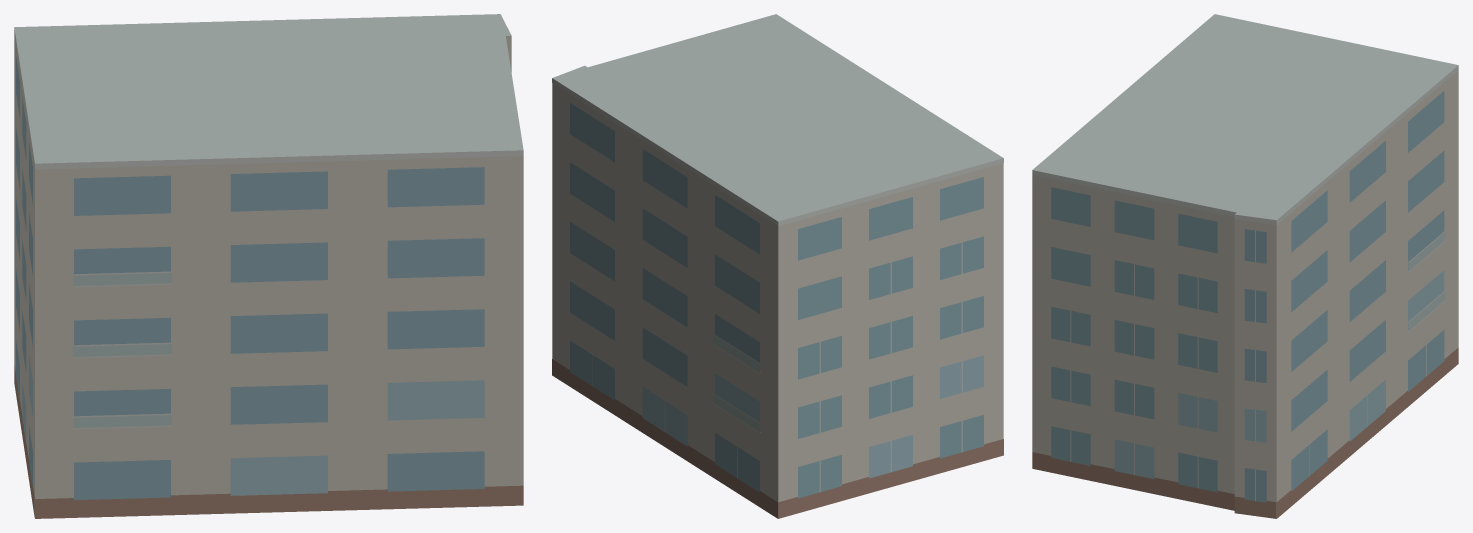
The model's file is survey-upis-32954496.glb.
The picture shows the model from 3 angles, left to right: view 1: azimuth 30°, elevation 25°; view 2: azimuth 150°, elevation 25°; view 3: azimuth 270°, elevation 25°; orthographic projection. The views are drawn at different scales.
Visible parts, largest first — view 1: survey-upis-32954496.tmp; view 2: survey-upis-32954496.tmp; view 3: survey-upis-32954496.tmp.
Part boxes in pixels (x1,y1,x2,y2): survey-upis-32954496.tmp: (14, 14, 523, 518); survey-upis-32954496.tmp: (552, 14, 1003, 518); survey-upis-32954496.tmp: (1032, 14, 1458, 518).
Size of the model in its own units: 22.37 by 15.1 by 19.54.
